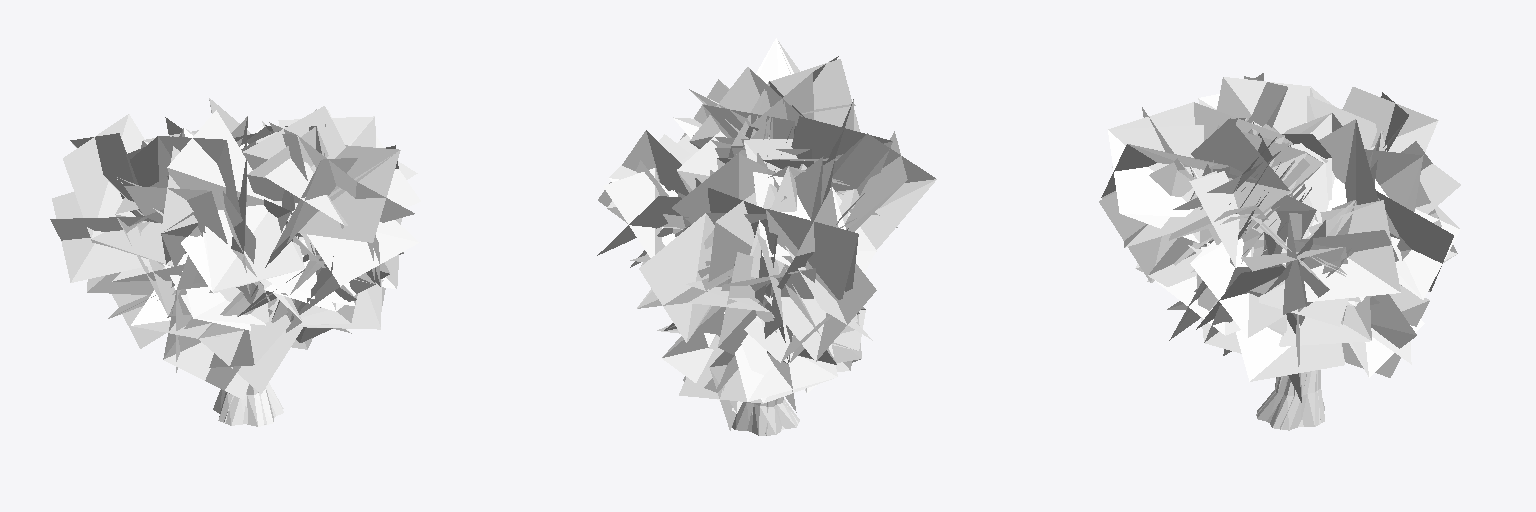
File: arvore.obj
3 renders of one model, left to right at view 1: azimuth 30°, elevation 25°; view 2: azimuth 150°, elevation 25°; view 3: azimuth 270°, elevation 25°, orthographic.
Visible parts, largest first — view 1: Plane_Plane.003, Plane.044_Plane; view 2: Plane.044_Plane, Plane_Plane.003; view 3: Plane.044_Plane, Plane_Plane.003.
Boxes of the visible parts, x1,y1,x2,y2 form: Plane_Plane.003: [51, 98, 414, 424]; Plane.044_Plane: [50, 100, 420, 426]; Plane.044_Plane: [603, 39, 936, 435]; Plane_Plane.003: [597, 38, 935, 435]; Plane.044_Plane: [1099, 73, 1460, 430]; Plane_Plane.003: [1102, 76, 1460, 429].
Size of the model in its own units: 8.06 by 7.84 by 8.05.